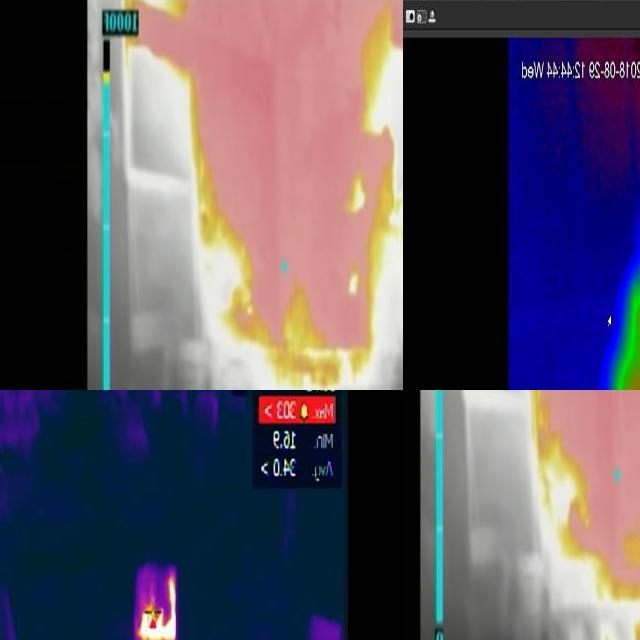fire: (122, 1, 404, 389), (462, 391, 640, 607), (136, 570, 178, 640)
